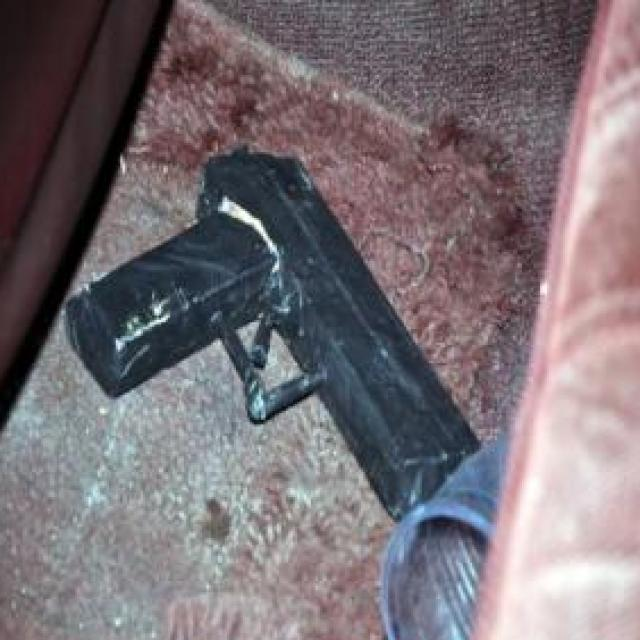pistol: (61, 138, 486, 526)
